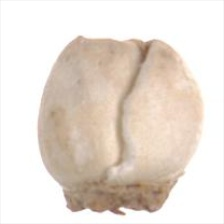L3: (75, 32, 166, 45)
L4: (36, 35, 204, 215)
